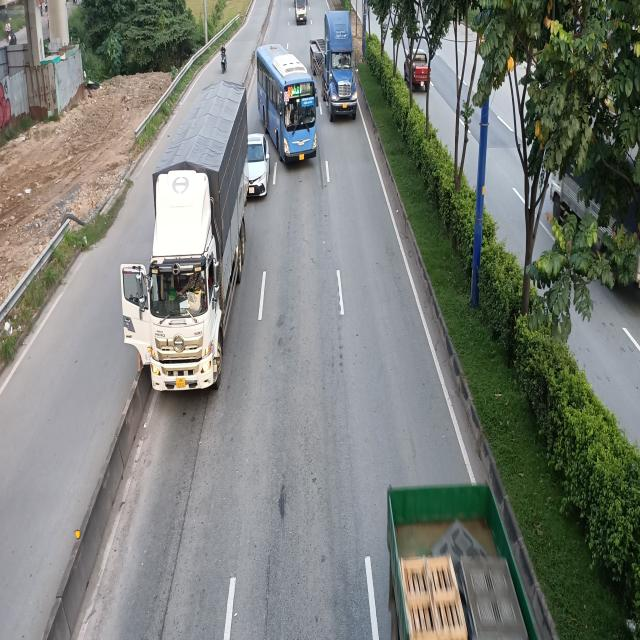car: (248, 133, 270, 199)
coach: (257, 43, 318, 164)
container: (313, 9, 358, 121)
truck: (136, 80, 247, 398), (294, 0, 308, 24)
